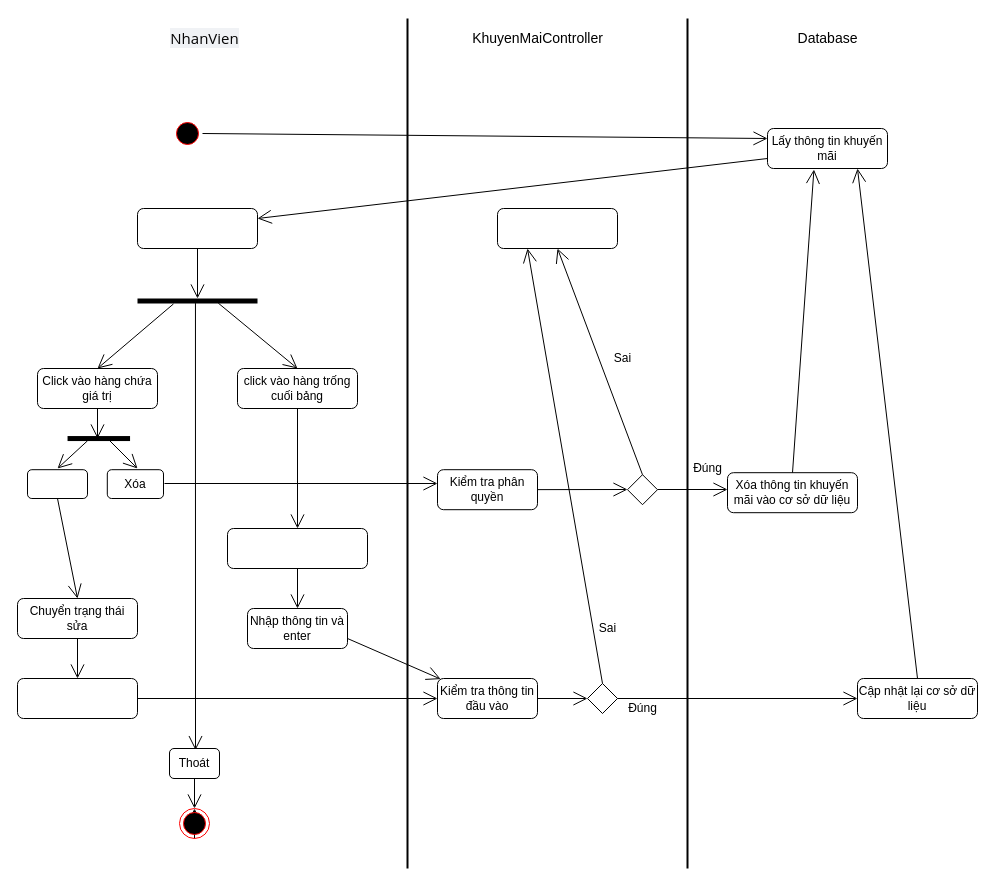
This 995x887 diagram has some shape labels left out. The box of each missing label's shape, as (x1, y1, x2, y2) in pixels:
Chuyển trạng thái sang ô nhập: (226, 528, 368, 568)
Hiển thị chi tiết: (136, 208, 258, 248)
Khôi phục bảng dữ liệu: (496, 208, 618, 248)
Sửa: (26, 469, 88, 498)
Sửa thông tin và enter: (16, 678, 138, 718)
